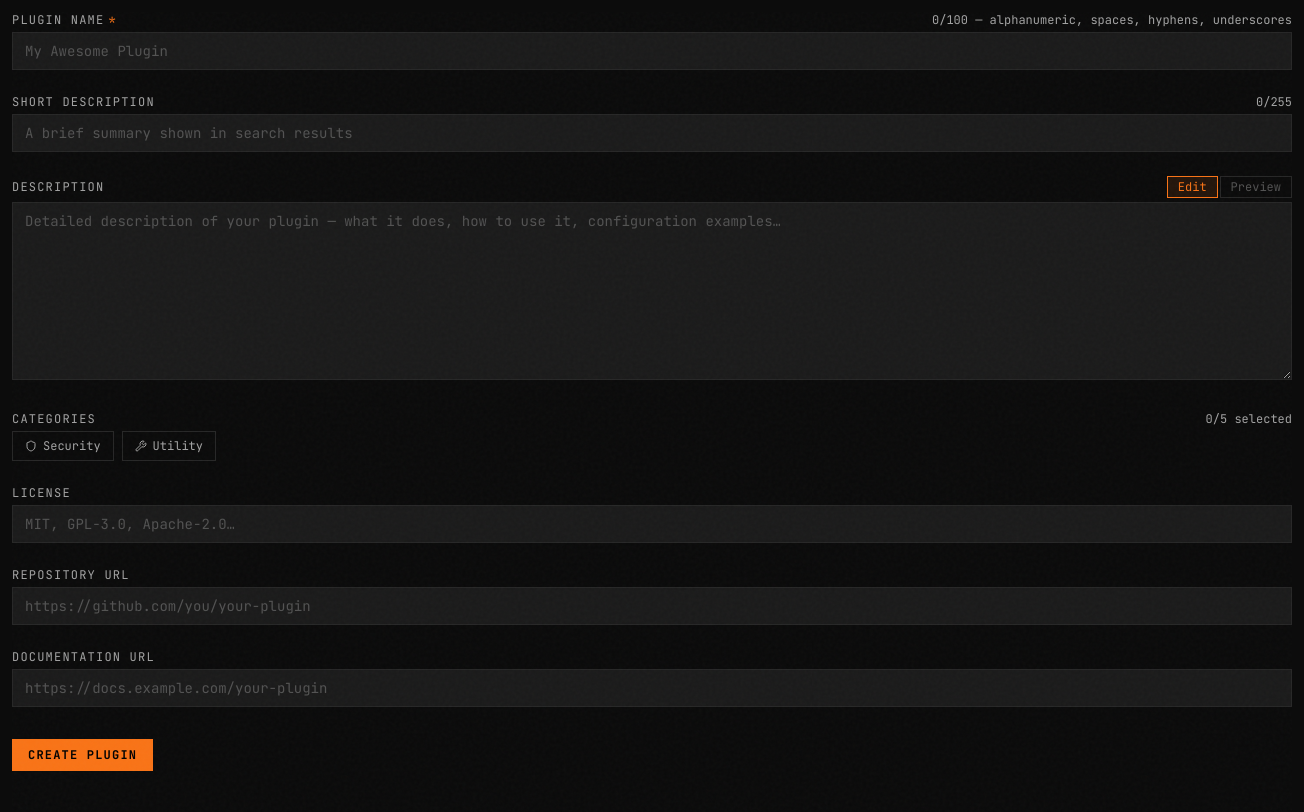
Test case: PluginForm › shows validation errors on invalid submit
In the field labelled "Plugin Name*": point(652, 51) [12,32,1292,70], type "ab"
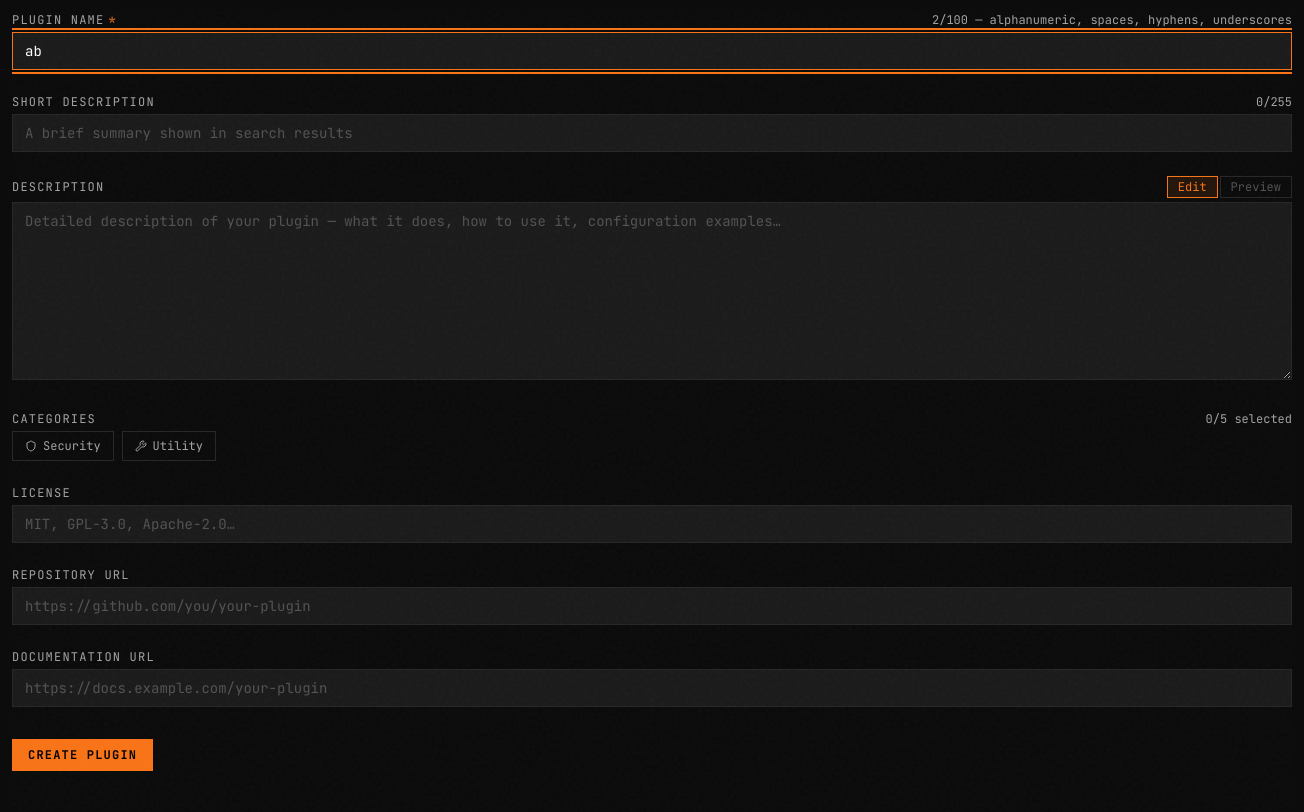
Click the button "Create Plugin": point(83, 755) [12,739,153,771]
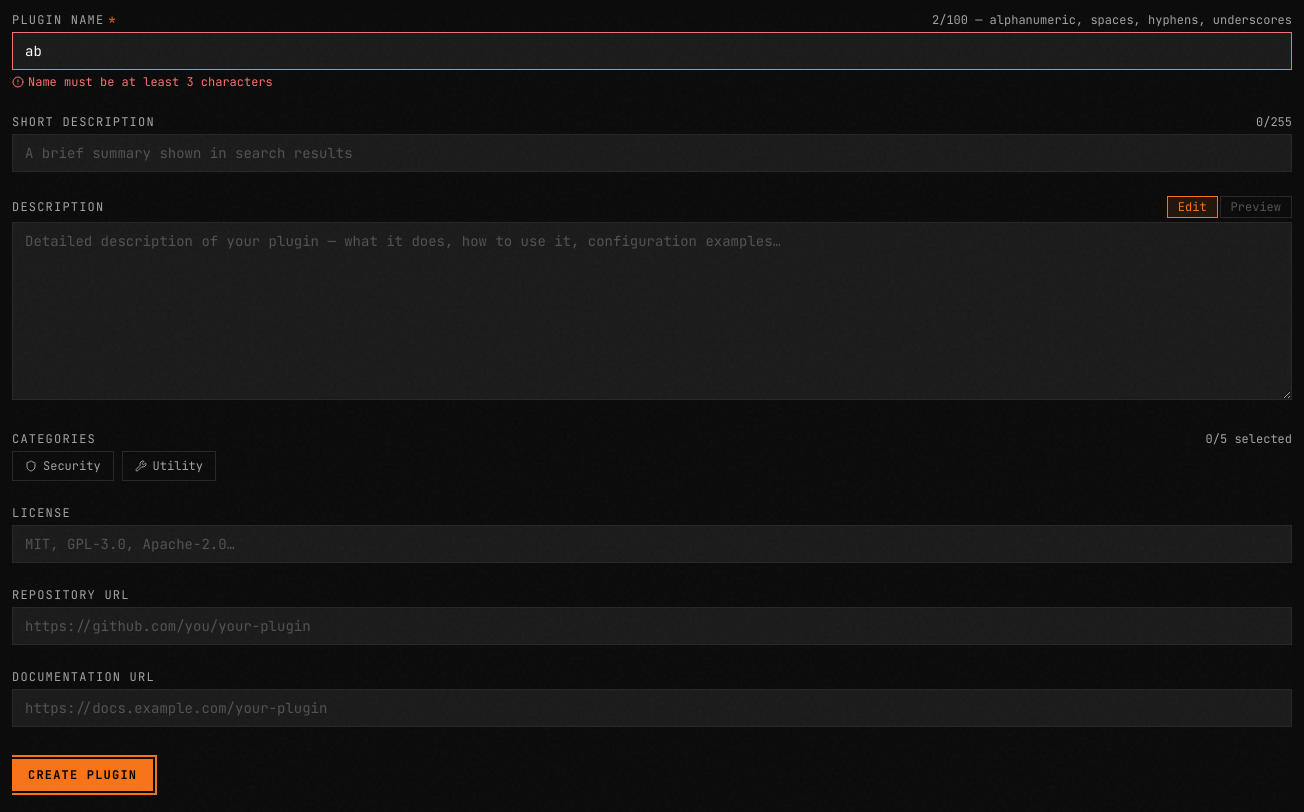
Check: the text "Name must be at least 3 characters" is shown, box [12,74,273,90]
